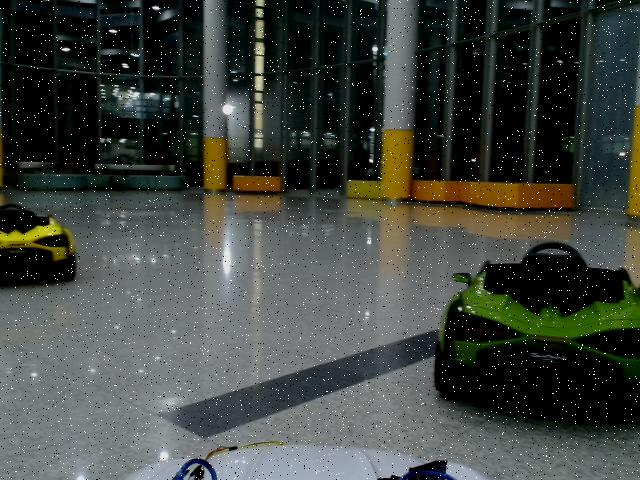car: (434, 243, 640, 412), (1, 203, 76, 286)
